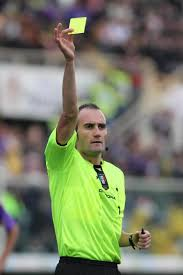yellow_card: (47, 10, 90, 61)
